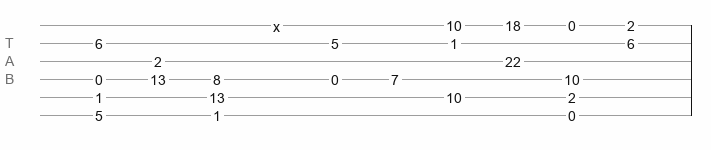0: (95, 72, 103, 82), (331, 72, 339, 82), (568, 108, 576, 118), (568, 18, 576, 28)
1: (95, 90, 103, 100), (213, 108, 221, 118), (450, 36, 458, 46)
10: (446, 18, 462, 28), (446, 90, 462, 100), (564, 72, 580, 82)
13: (150, 72, 166, 82), (209, 90, 225, 100)
18: (505, 18, 521, 28)
2: (154, 54, 162, 64), (568, 90, 576, 100), (627, 18, 635, 28)
22: (505, 54, 521, 64)
5: (95, 108, 103, 118), (331, 36, 339, 46)
6: (95, 36, 103, 46), (627, 36, 635, 46)
7: (391, 72, 399, 82)
8: (213, 72, 221, 82)
x: (273, 19, 280, 27)
